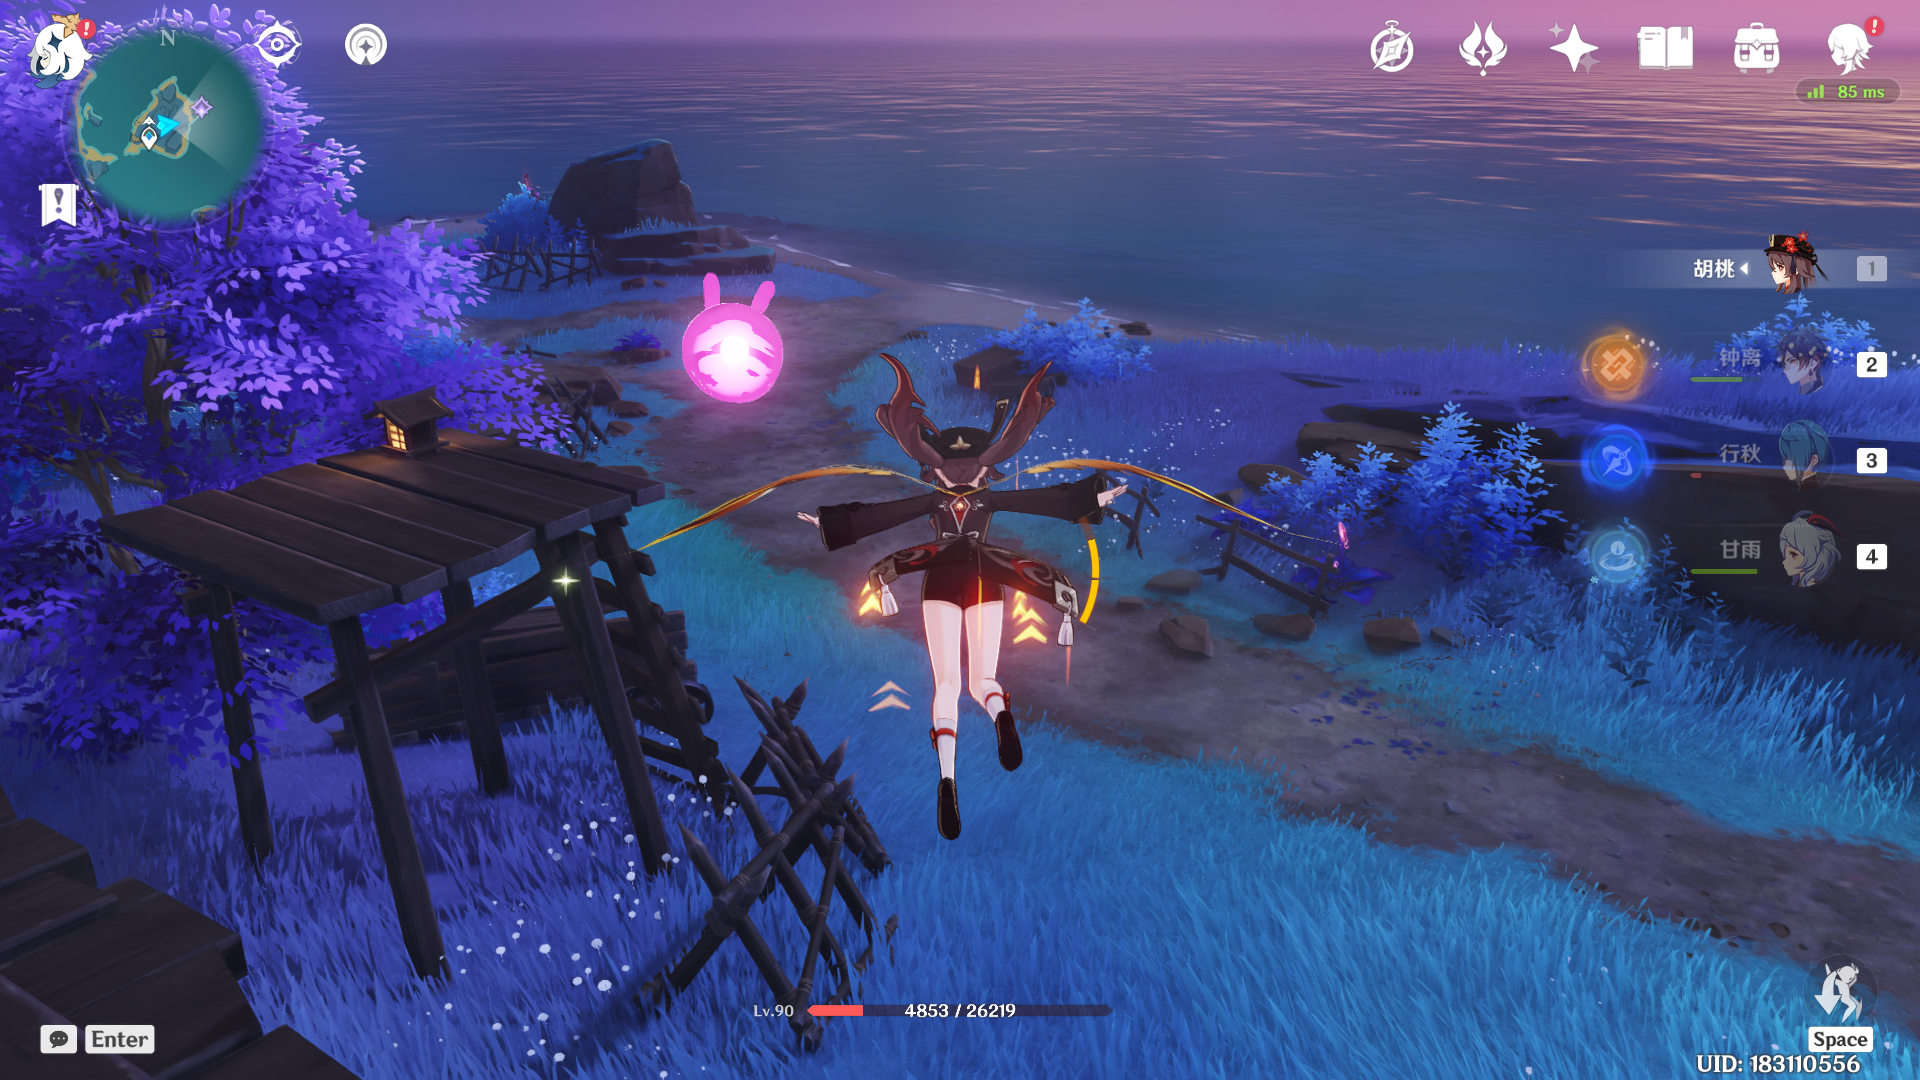character: (789, 342, 1143, 843)
